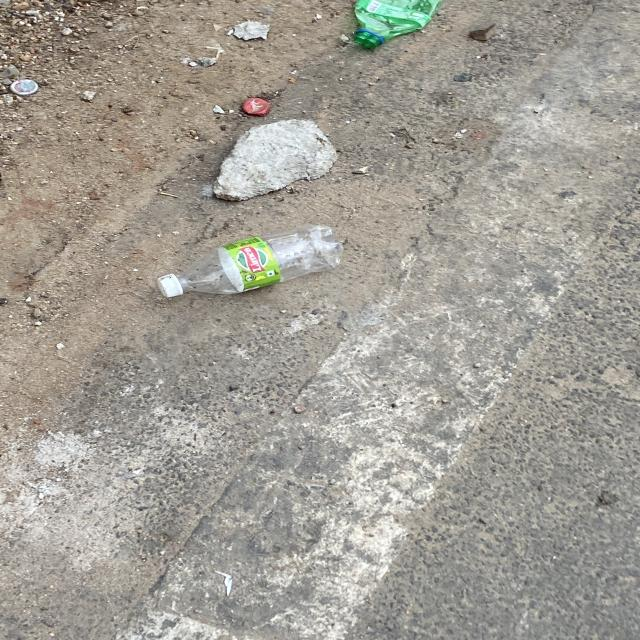chai_nhua: (156, 224, 342, 297), (354, 0, 442, 46)
